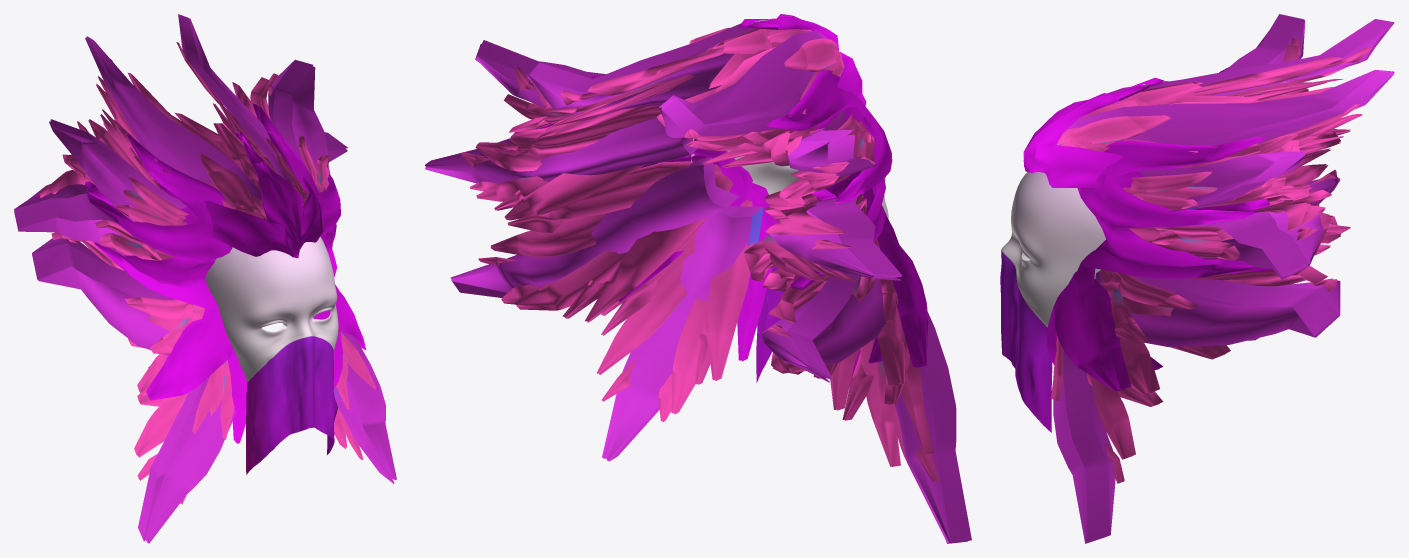
Rendered from Mask_Normal11-3UVs.glb.
The picture shows the model from 3 angles, left to right: view 1: azimuth 30°, elevation 25°; view 2: azimuth 150°, elevation 25°; view 3: azimuth 270°, elevation 25°; orthographic projection. The views are drawn at different scales.
Parts seen in each view (by area): view 1: BézierCurve.001, Female Average Head; view 2: BézierCurve.001, Female Average Head; view 3: BézierCurve.001, Female Average Head.
Boxes of the visible parts, box(x1,y1,x2,y2) form: BézierCurve.001: box(14, 14, 396, 543); Female Average Head: box(205, 236, 338, 474); BézierCurve.001: box(425, 14, 971, 543); Female Average Head: box(691, 138, 888, 382); BézierCurve.001: box(1023, 14, 1394, 543); Female Average Head: box(1000, 172, 1105, 432).
Size of the model in its own units: 0.3963 by 0.447 by 0.3689.
Materials: 1 (1 with a texture image).
